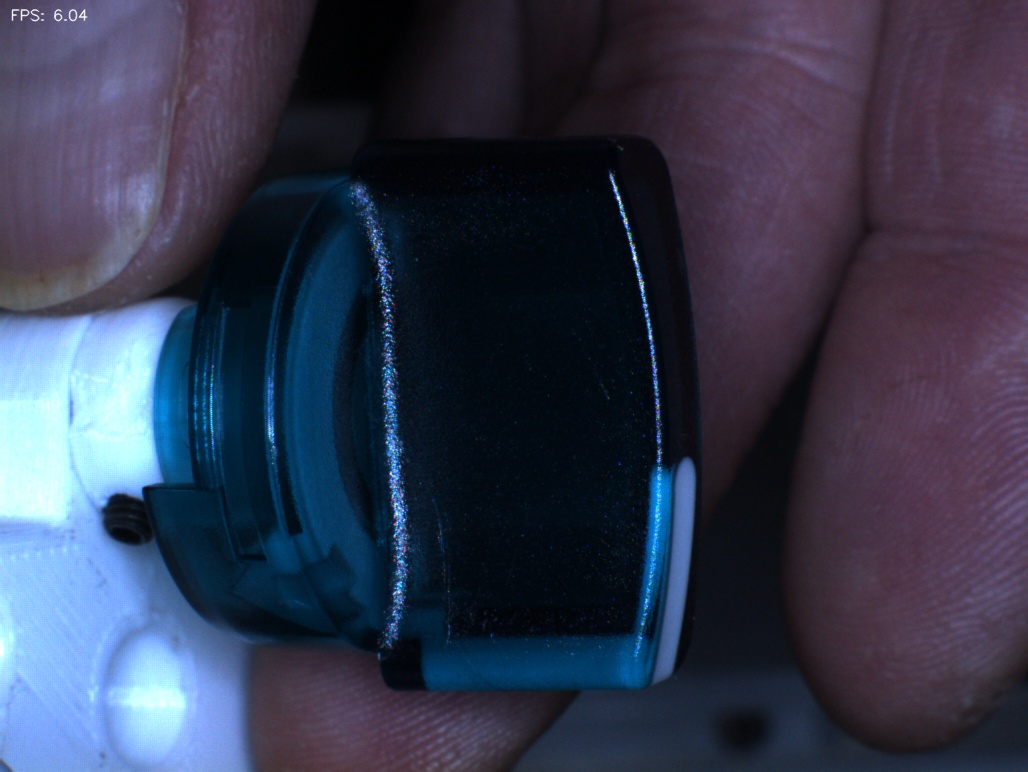Givrage: (415, 464, 498, 670)
